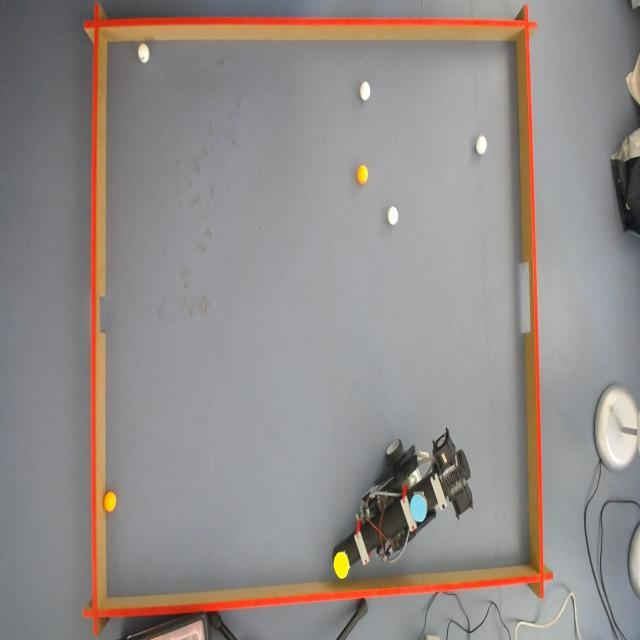orange: (104, 492, 118, 514), (358, 164, 370, 184)
robot: (334, 432, 480, 573)
robot-front: (334, 551, 349, 578)
robot-rear: (408, 492, 429, 525)
white: (388, 204, 401, 226), (360, 81, 373, 102), (136, 43, 148, 65), (476, 135, 486, 155)
